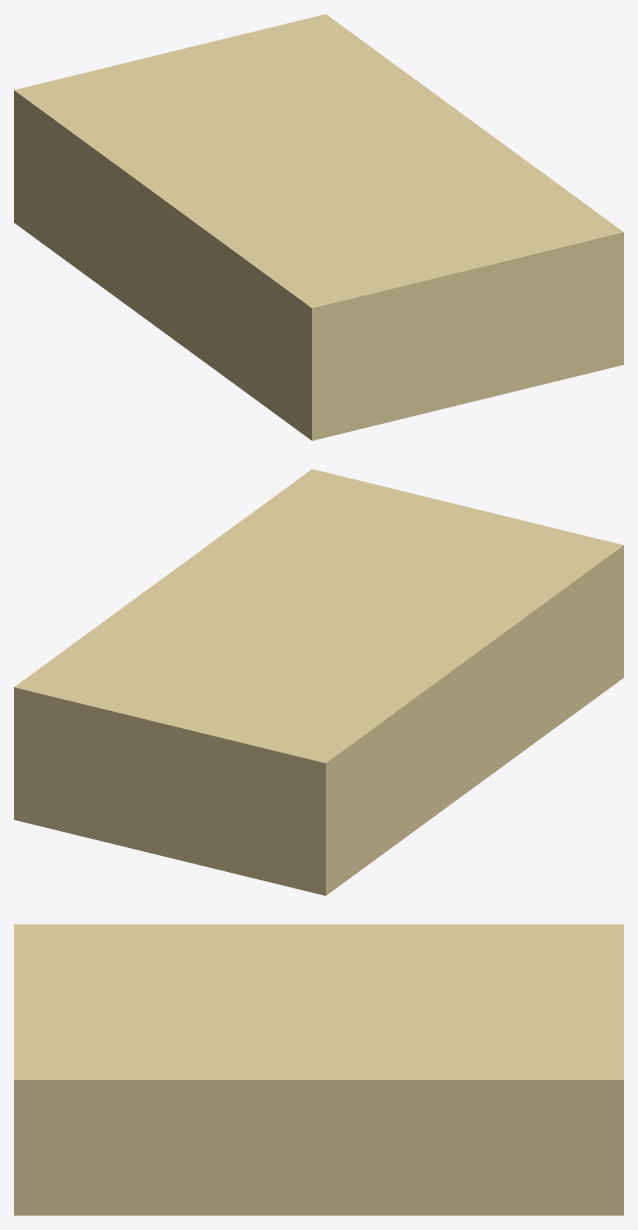
Rendered from Court Room fixed.fbx.
The picture shows the model from 3 angles, top to bottom: view 1: azimuth 30°, elevation 25°; view 2: azimuth 150°, elevation 25°; view 3: azimuth 270°, elevation 25°; orthographic projection. The views are drawn at different scales.
Visible parts, largest first — view 1: Plane; view 2: Plane; view 3: Plane.
Boxes of the visible parts, x1,y1,x2,y2 form: Plane: (14,14,623,440); Plane: (14,469,623,895); Plane: (14,924,623,1215).
Size of the model in its own units: 4549 by 1848 by 7532.
